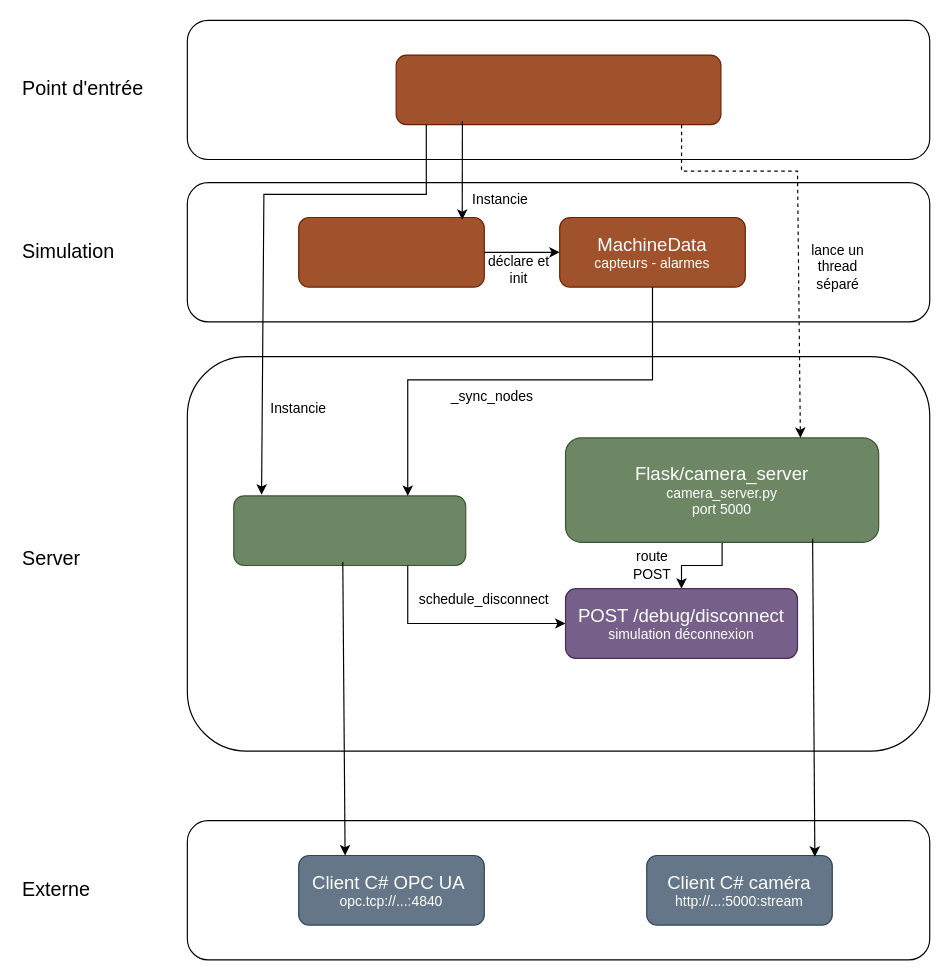
This 950x980 diagram has some shape labels left out. The shapes that lost their labels are listed below. From the top down, each one's centre as x and y in pixels, then its label:
point (558, 89): main.py Orchestrateur - asyncio
point (391, 251): MachineSimulator machine_state.py
point (349, 530): OpcUaServer opc_server.py port 4840
